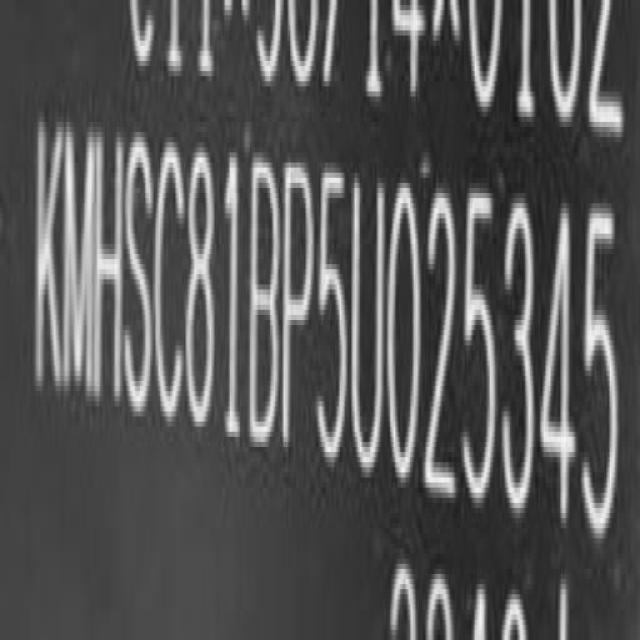0: (387, 178, 422, 490)
1: (219, 148, 245, 450)
2: (426, 184, 460, 506)
3: (501, 195, 538, 521)
4: (540, 200, 579, 536)
5: (585, 208, 624, 544), (462, 188, 498, 514), (317, 162, 350, 473)
8: (187, 144, 217, 438)
B: (249, 156, 282, 455)
C: (153, 132, 185, 420)
H: (94, 117, 124, 410)
K: (35, 105, 62, 401)
M: (61, 115, 94, 408)
P: (283, 150, 316, 468)
S: (124, 122, 153, 422)
U: (351, 169, 384, 482)
